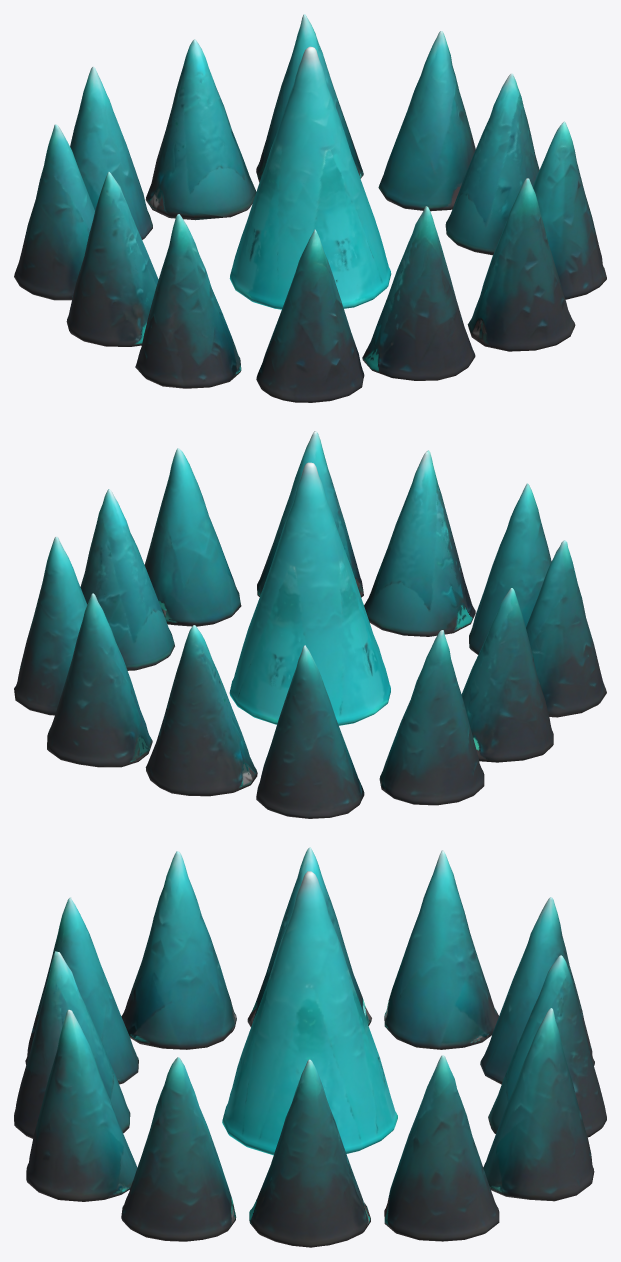
File: Floor_spikes_emergin_0926184354_texture.fbx
3 renders of one model, top to bottom at view 1: azimuth 30°, elevation 25°; view 2: azimuth 150°, elevation 25°; view 3: azimuth 270°, elevation 25°, orthographic. The views are drawn at different scales.
Parts seen in each view (by area): view 1: Mesh0; view 2: Mesh0; view 3: Mesh0.
Part boxes in pixels (<box>): Mesh0: <box>14,14,606,402</box>; Mesh0: <box>14,431,606,818</box>; Mesh0: <box>14,847,606,1247</box>.
Bounding box in the file's own units: 190 × 88.76 × 190.
1 material, 1 textured.
